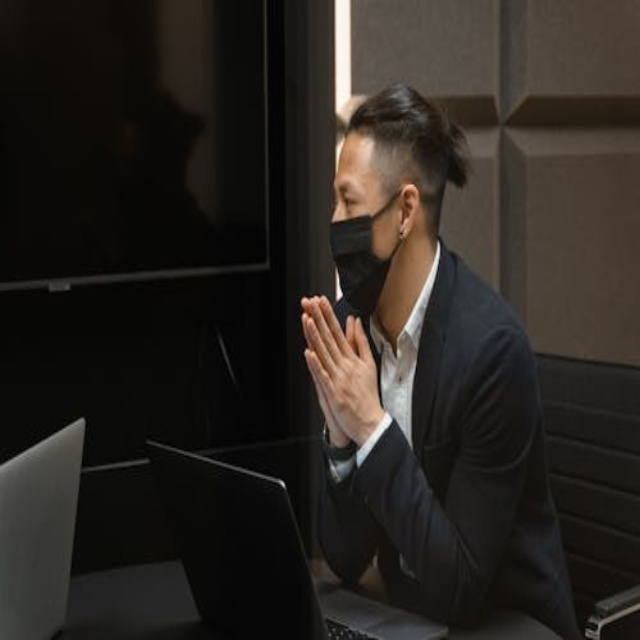Mascara: (330, 196, 402, 316)
Sin_gafas: (330, 171, 376, 215)
Sin_guantes: (299, 297, 384, 449)
